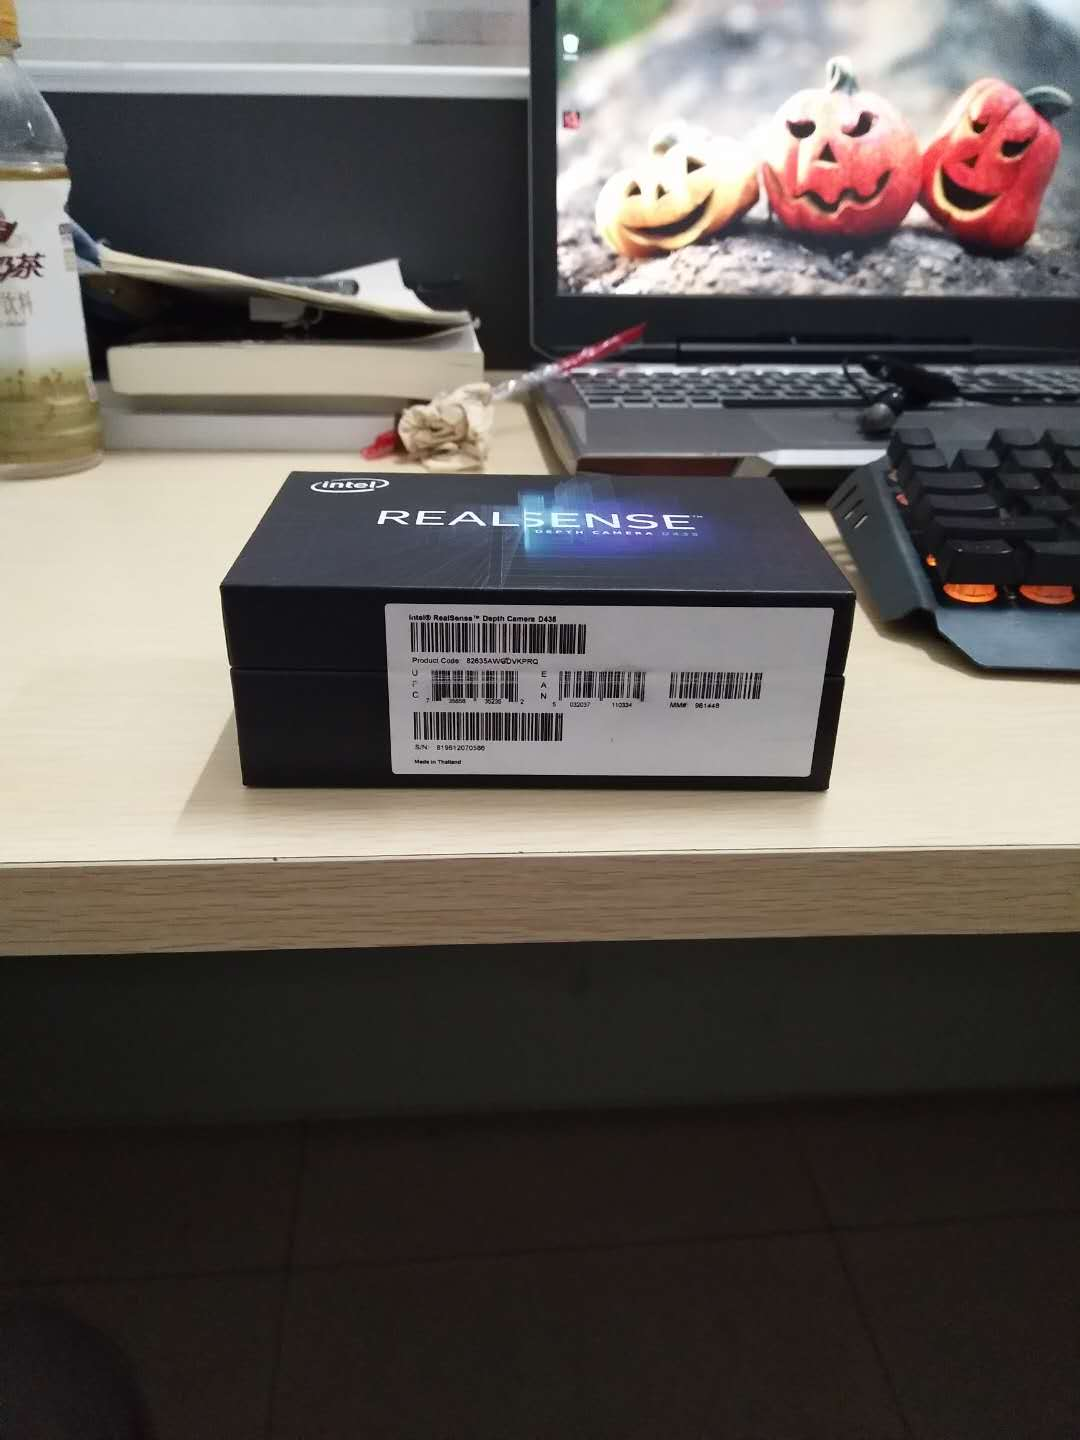box: (209, 471, 876, 815)
